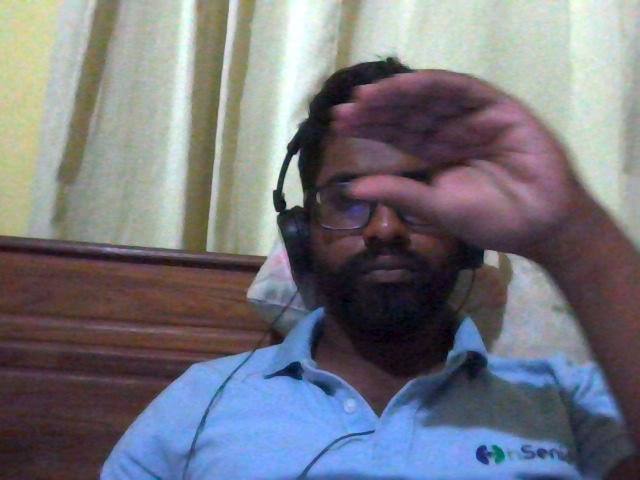No: (286, 53, 617, 281)
